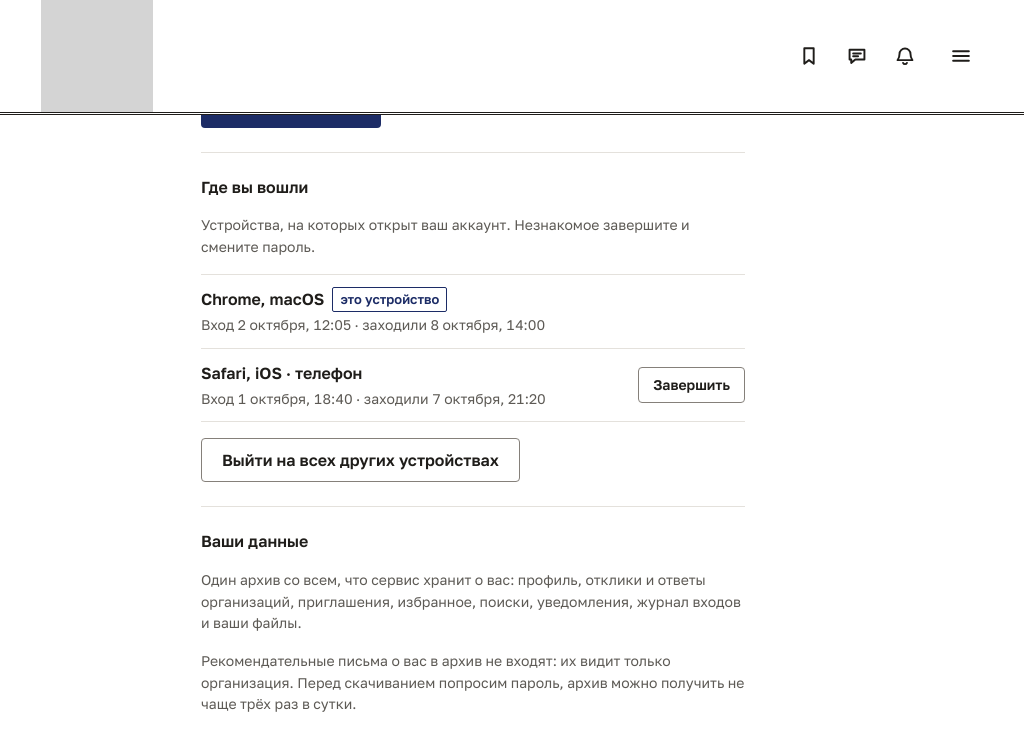
Test case: sessions › say so when ending failed
(page scrolled)
Expected: the heading "Где вы вошли" is shown, [201,177,308,197]
Expected: the text "это устройство" is shown, [332,287,447,312]
Click the button "Завершить". click: x=692, y=385
box: [638,367,745,403]
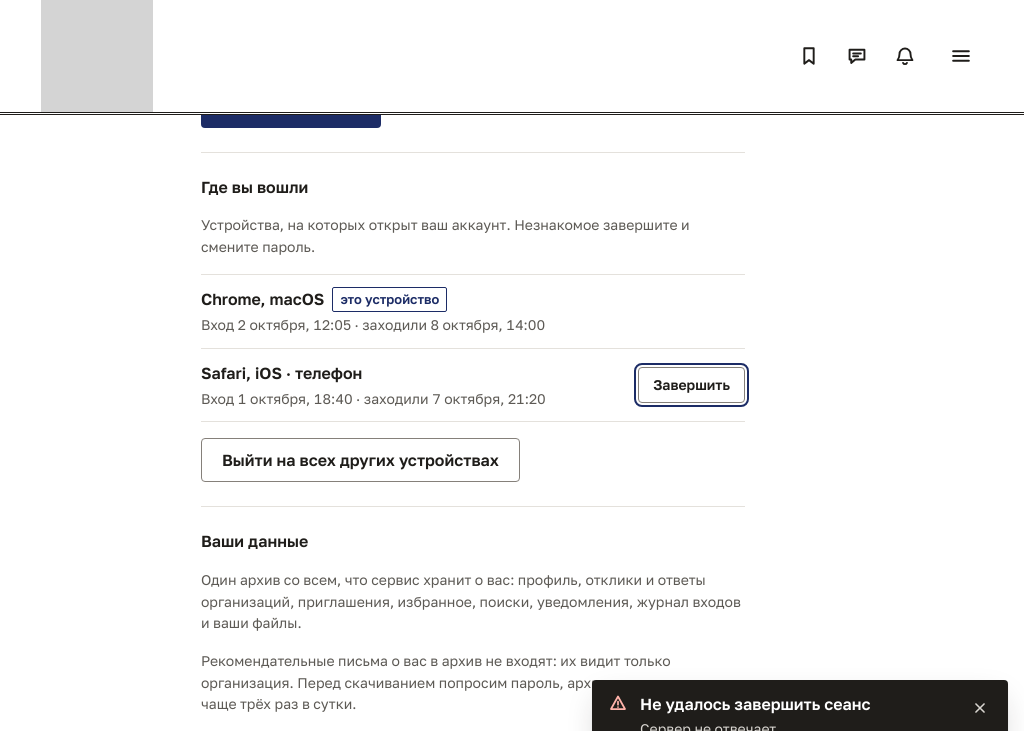
Result: the text "Не удалось завершить сеанс" is shown at [640,694,871,714]
